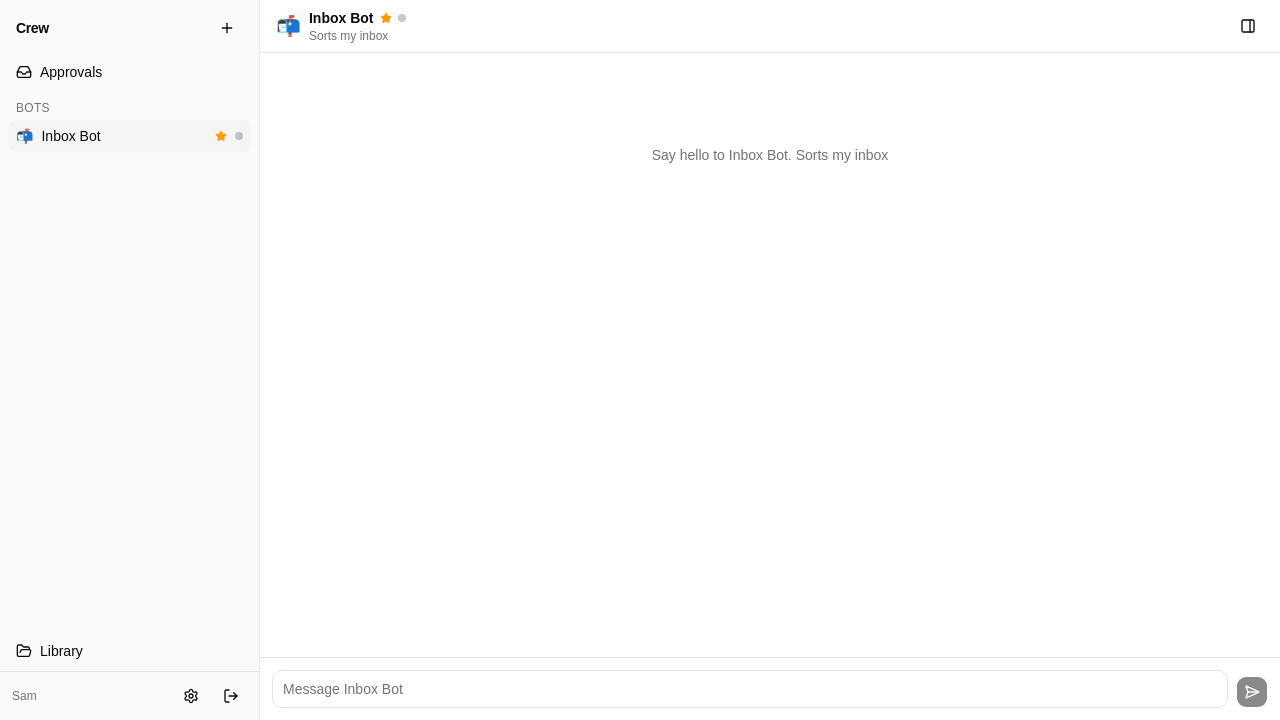
Test: a custom MCP server lists its tools and each can be marked safe
The image size is (1280, 720).
Check: the element showing "Say hello to Inbox Bot. Sorts my inbox" is shown, box [652,147,888,163]
Click the button named "Settings" at x=191, y=696, box [175,680,207,712]
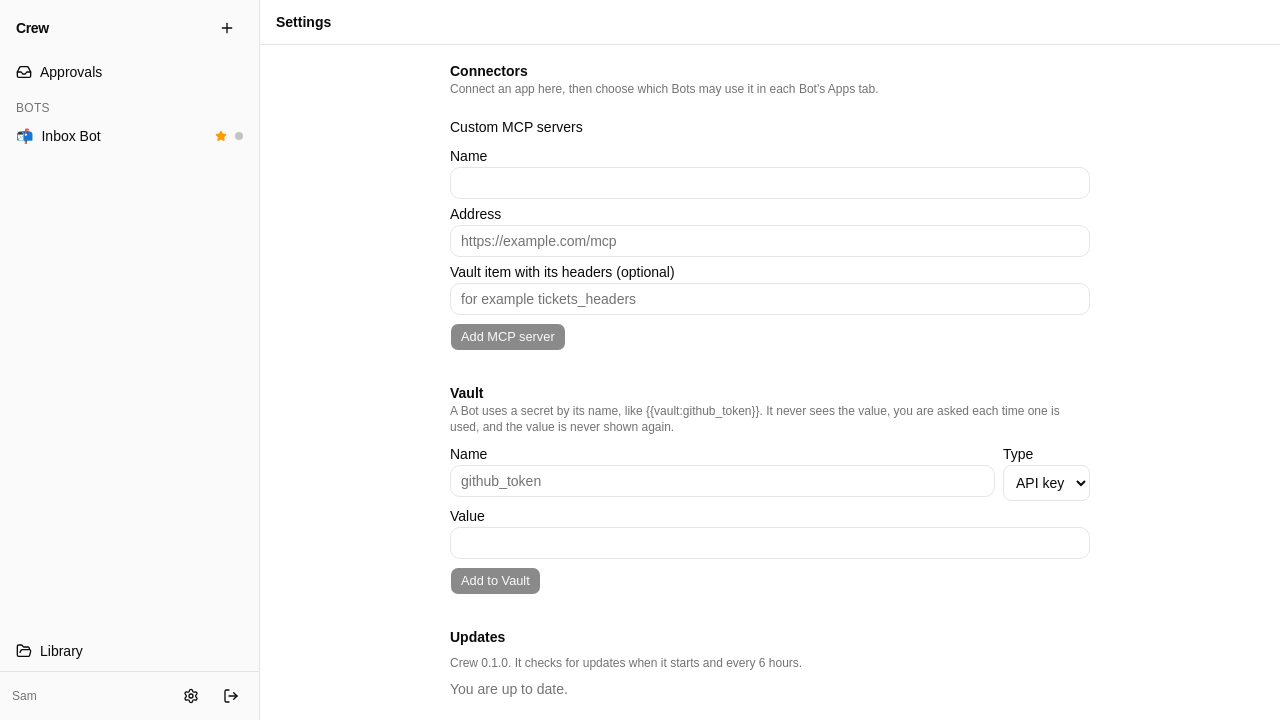
Type "Tickets" into the field labelled "Name" below "Custom MCP servers" at x=770, y=183, box [450,167,1090,199]
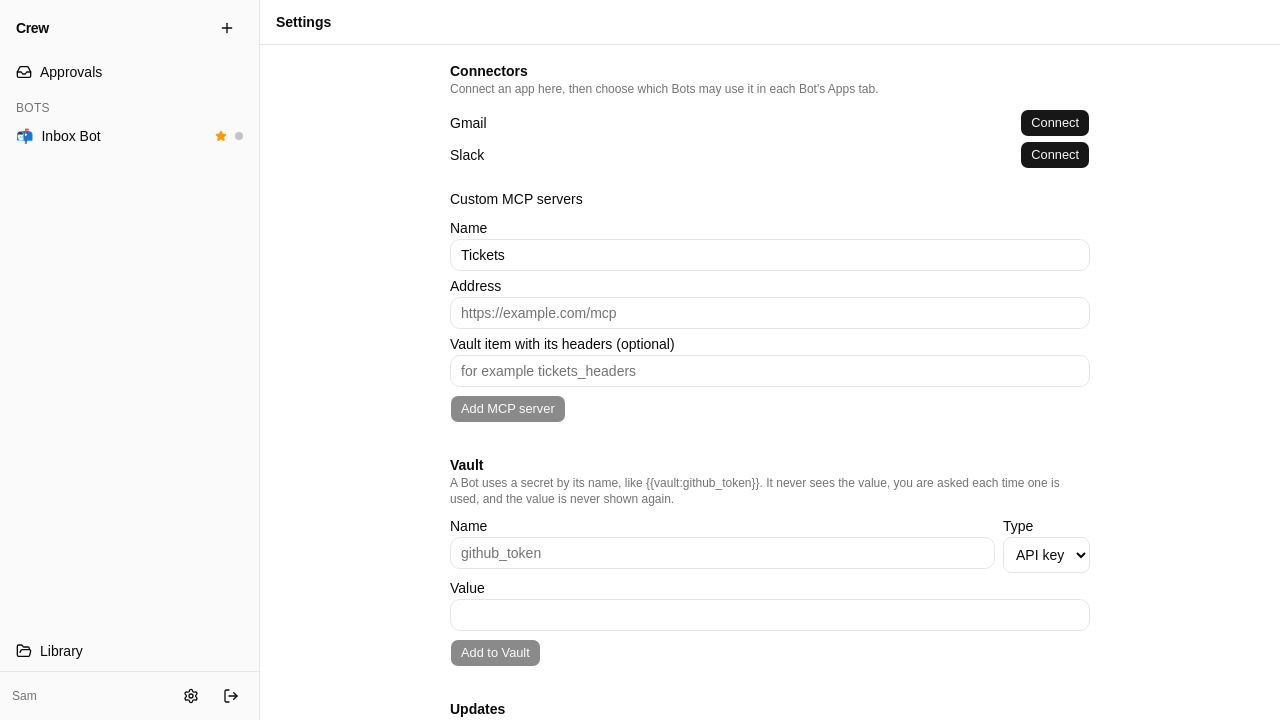
Type "https://mcp.example.com/mcp" into the field labelled "Address" at x=770, y=313, box [450,297,1090,329]
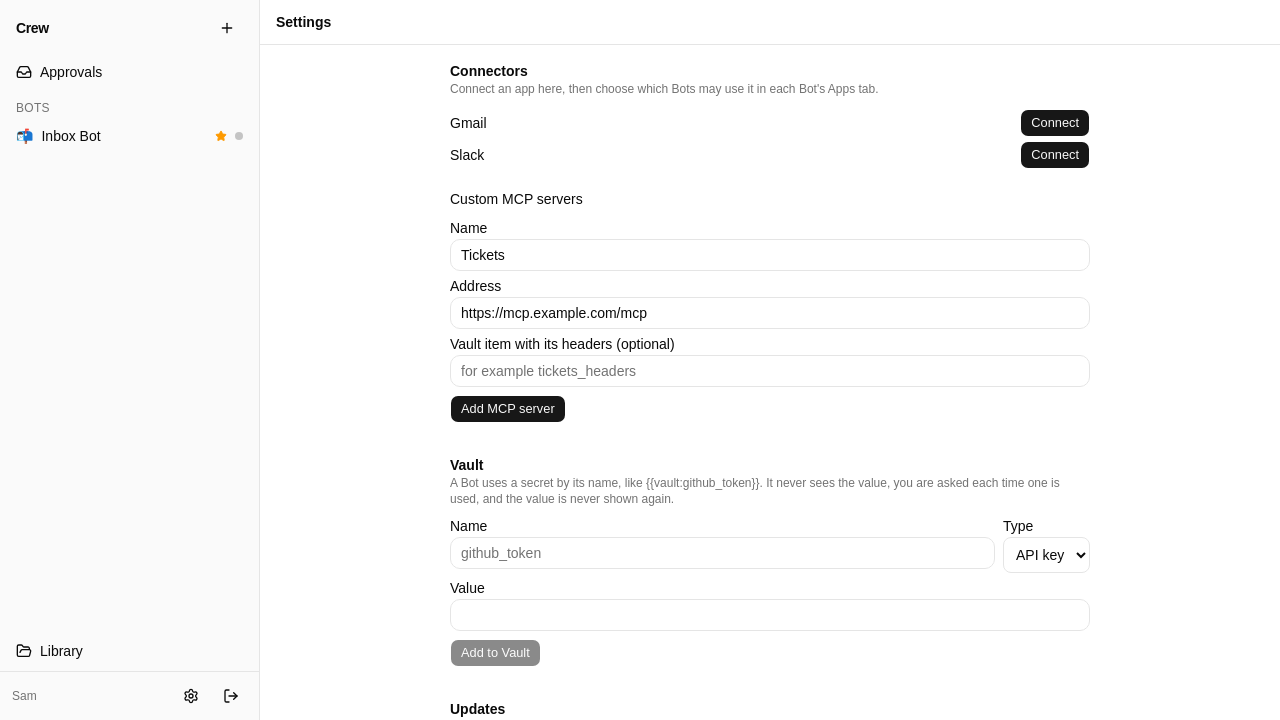
Click the button "Add MCP server" at x=508, y=409, box [450,395,566,423]
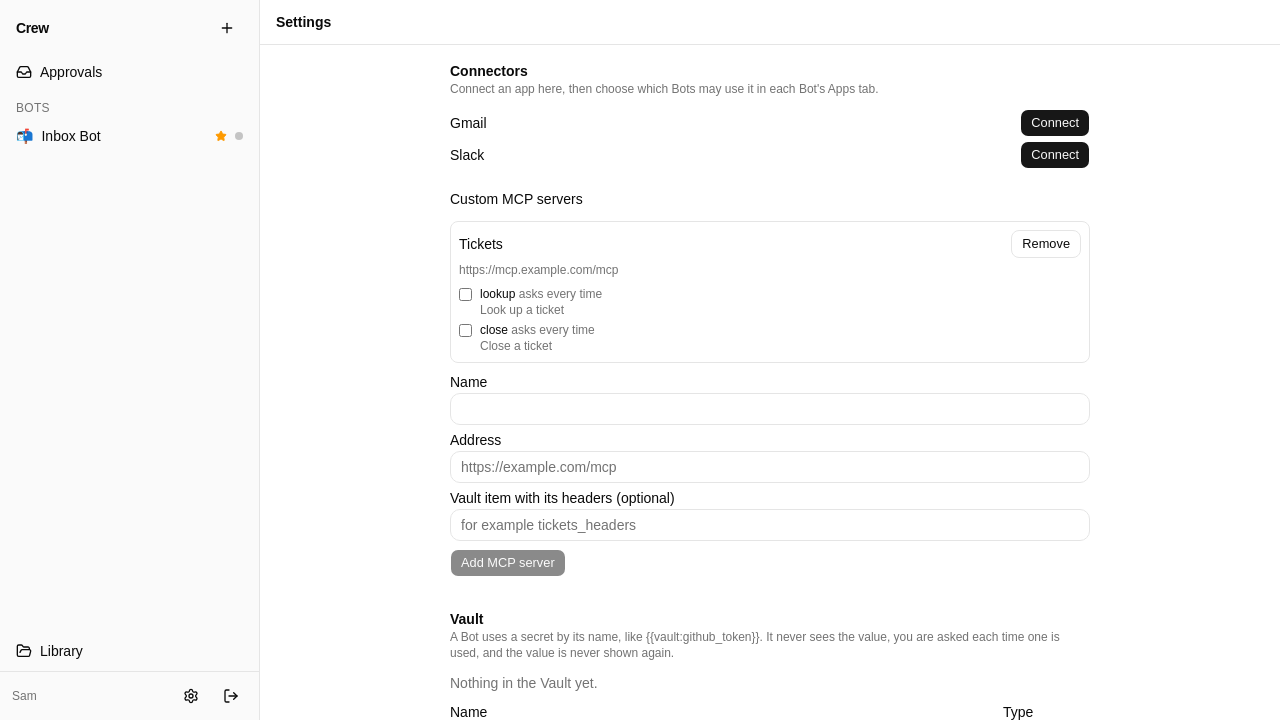
Check: the text "asks every time" is shown 2 times, box [519,287,602,301]; [511,323,595,337]
Click the checkbox named "lookup runs without asking" at x=466, y=294, box [459,288,472,301]
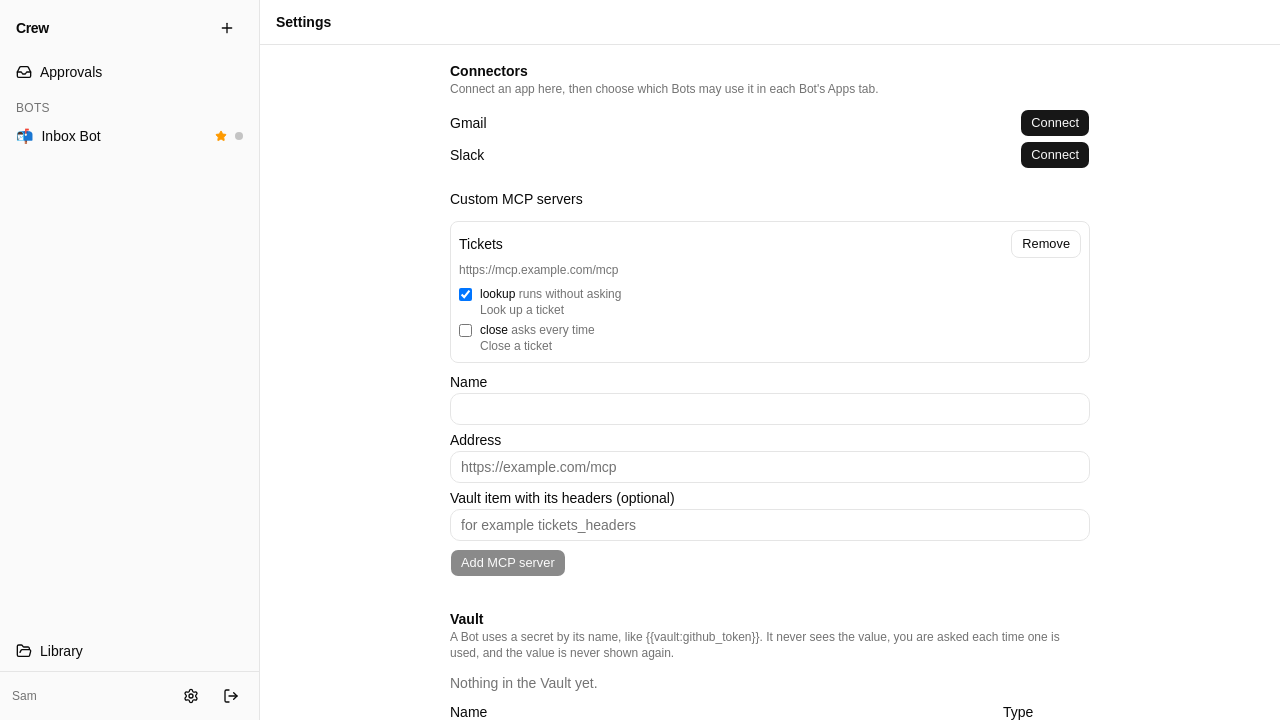
Check: the text "runs without asking" is shown, box [519,287,621,301]
